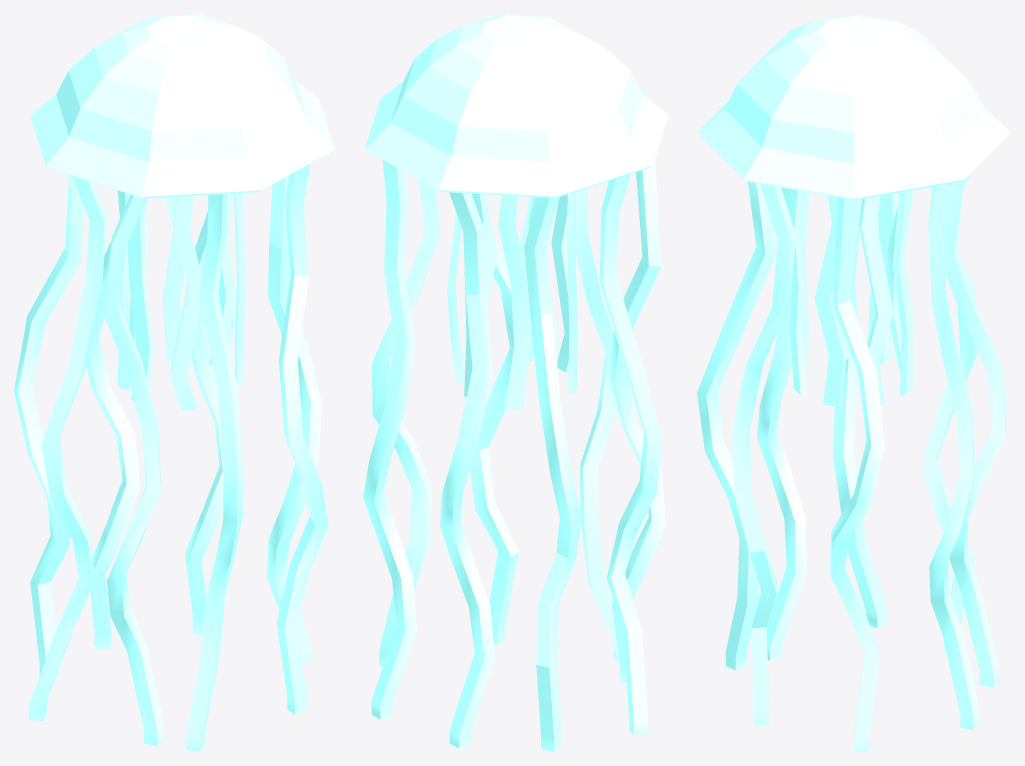
File: jellyfishBlue.fbx
The picture shows the model from 3 angles, left to right: view 1: azimuth 30°, elevation 25°; view 2: azimuth 150°, elevation 25°; view 3: azimuth 270°, elevation 25°; orthographic projection.
Parts seen in each view (by area): view 1: pCylinder1, pCube20, pCube18, pCube22, pCube21, pCube19, pCube17, pCube16, pCube23, pCube25, pCube27, pCube24 (+3 smaller); view 2: pCylinder1, pCube19, pCube16, pCube23, pCube21, pCube22, pCube20, pCube17, pCube18, pasted__pCube31, pCube25, pCube27 (+3 smaller); view 3: pCylinder1, pCube17, pCube23, pCube18, pCube20, pCube16, pCube22, pCube21, pCube19, pCube26, pCube28, pCube24 (+4 smaller).
Part boxes in pixels (x1,y1,x2,y2): pCylinder1: (30, 14, 334, 198); pCube20: (185, 194, 243, 751); pCube18: (276, 164, 328, 714); pCube22: (104, 195, 164, 746); pCube21: (28, 175, 106, 720); pCube19: (14, 174, 84, 679); pCube17: (267, 175, 321, 663); pCube16: (86, 190, 140, 649); pCube23: (185, 211, 223, 634); pCube25: (170, 196, 201, 410); pCube27: (127, 200, 153, 400); pCube24: (163, 197, 190, 362); pCylinder1: (365, 14, 668, 198); pCube19: (524, 197, 581, 751); pCube16: (440, 192, 494, 748); pCube23: (363, 160, 416, 719); pCube21: (599, 174, 662, 735); pCube22: (609, 160, 665, 683); pCube20: (575, 188, 619, 662); pCube17: (372, 179, 440, 665); pCube18: (470, 237, 518, 644); pasted__pCube31: (498, 195, 531, 409); pCube25: (551, 194, 579, 372); pCube27: (567, 192, 577, 394); pCylinder1: (698, 14, 1010, 200); pCube17: (829, 197, 884, 751); pCube23: (928, 183, 980, 730); pCube18: (732, 184, 795, 725); pCube20: (697, 181, 775, 670); pCube16: (943, 174, 1006, 687); pCube22: (757, 187, 806, 660); pCube21: (832, 199, 887, 628); pCube19: (921, 186, 976, 651); pCube26: (859, 196, 893, 405); pCube28: (814, 196, 846, 407); pCube24: (892, 190, 914, 395).
Bounding box in the file's own units: 1.95 × 4.35 × 1.88.
